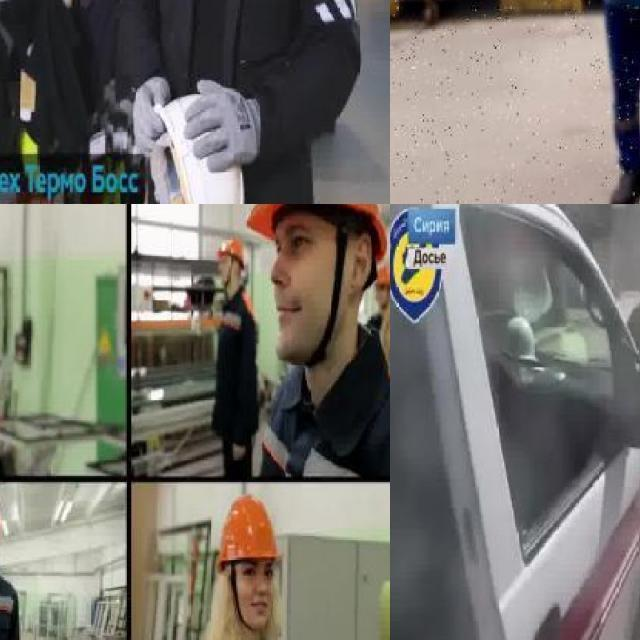apron: (182, 74, 264, 176), (132, 78, 171, 162)
